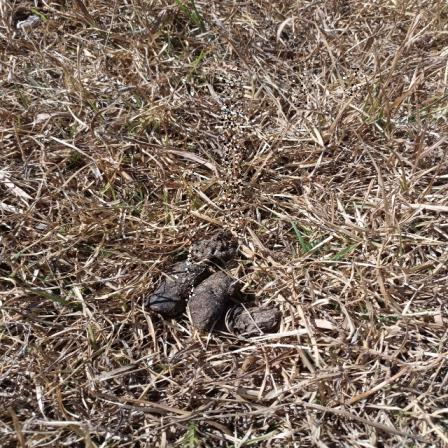dog-poop: (140, 227, 302, 334)
